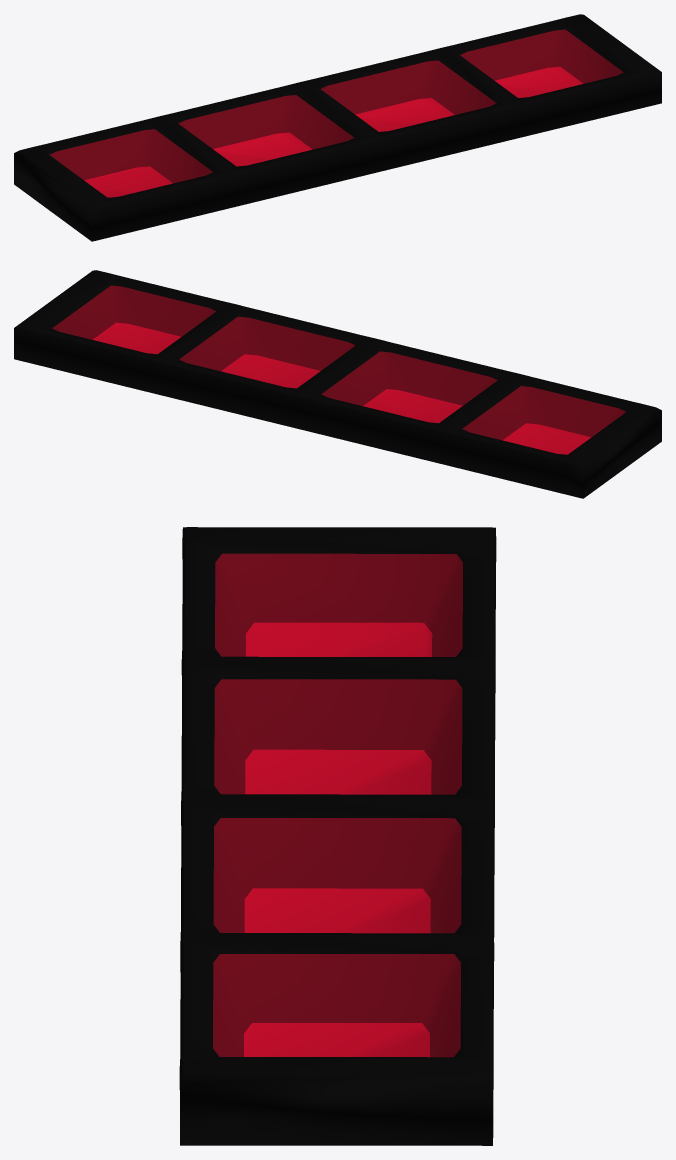
The model's file is sauce_container.fbx.
3 renders of one model, top to bottom at view 1: azimuth 30°, elevation 25°; view 2: azimuth 150°, elevation 25°; view 3: azimuth 270°, elevation 25°, orthographic. The views are drawn at different scales.
Visible parts, largest first — view 1: sauceContainer; view 2: sauceContainer; view 3: sauceContainer.
Part boxes in pixels (x1,y1,x2,y2): sauceContainer: (14, 14, 661, 241); sauceContainer: (14, 270, 661, 498); sauceContainer: (179, 527, 496, 1145).
Bounding box in the file's own units: 132 × 7.46 × 31.79.
